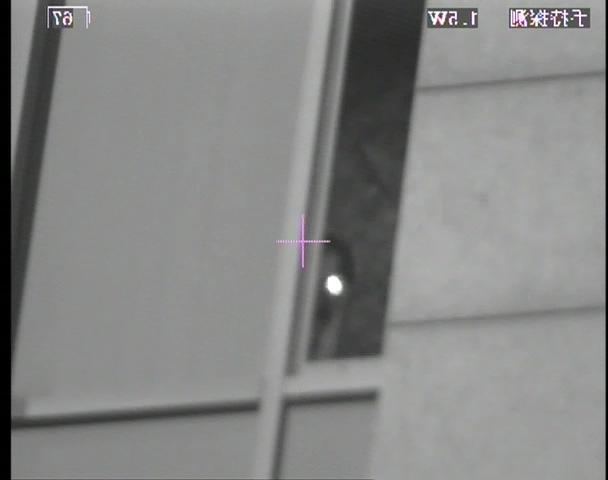my: (324, 274, 344, 295)
